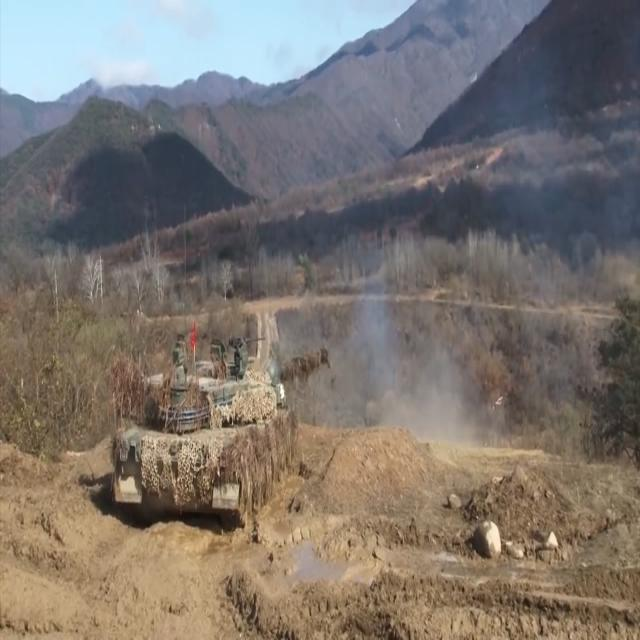korea tank: (110, 322, 332, 527)
